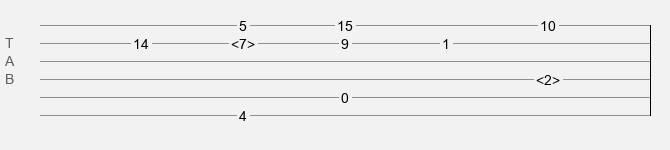0: (341, 90, 349, 100)
1: (442, 36, 450, 46)
10: (540, 18, 556, 28)
14: (133, 36, 149, 46)
15: (337, 18, 353, 28)
4: (239, 108, 247, 118)
5: (239, 18, 247, 28)
9: (341, 36, 349, 46)
harmonic: (231, 36, 255, 46), (536, 72, 560, 82)
